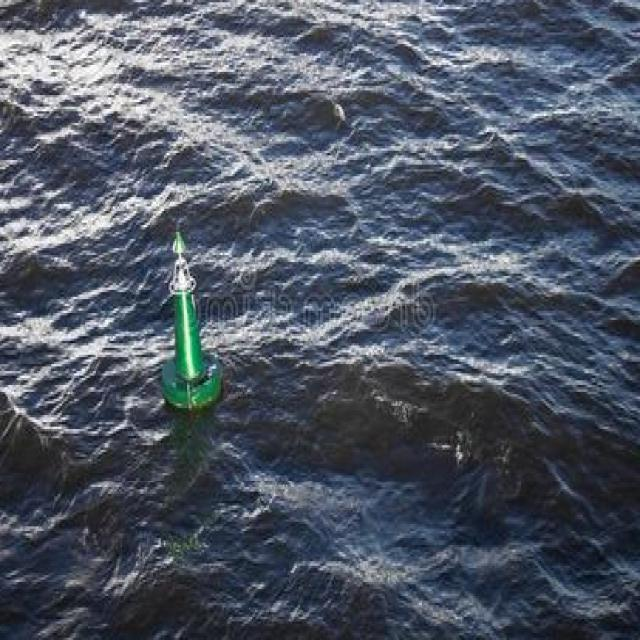buoy: (155, 222, 231, 412)
